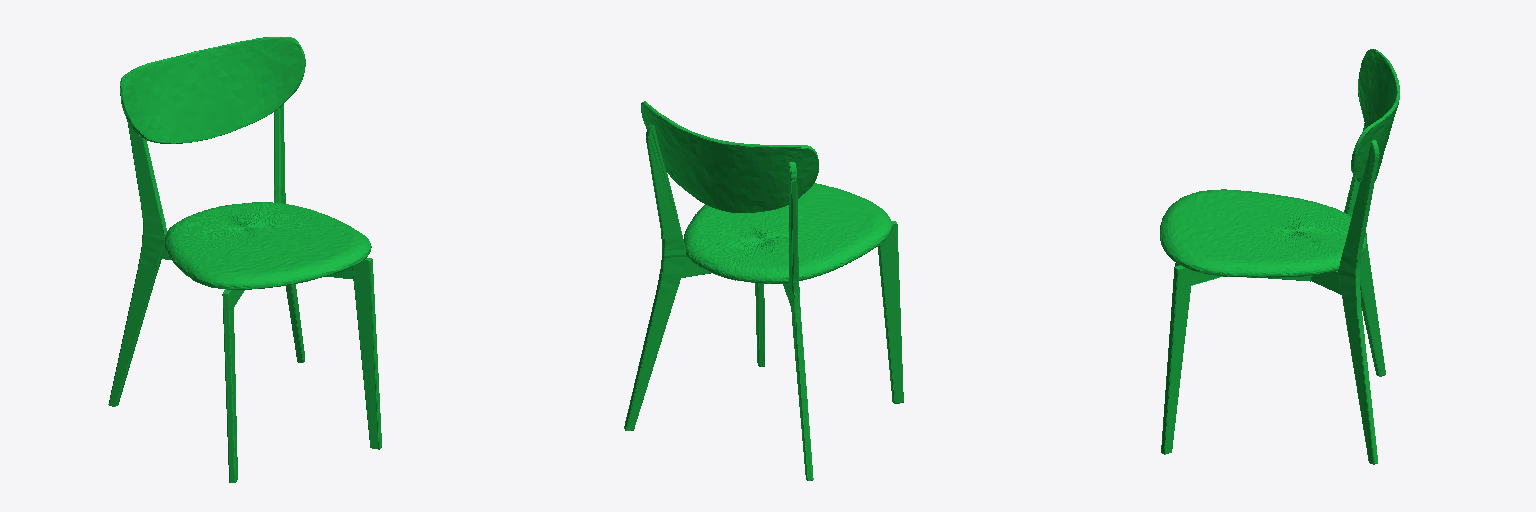
File: chair14.obj
3 renders of one model, left to right at view 1: azimuth 30°, elevation 25°; view 2: azimuth 150°, elevation 25°; view 3: azimuth 270°, elevation 25°, orthographic.
Parts seen in each view (by area): view 1: Object.1, Object.2; view 2: Object.1, Object.2; view 3: Object.2, Object.1.
Part boxes in pixels (x1,y1,x2,y2): Object.1: (108,37,381,482); Object.2: (165,202,371,289); Object.1: (624,101,903,480); Object.2: (684,183,891,283); Object.2: (1160,189,1366,277); Object.1: (1161,49,1399,464).
Size of the model in its own units: 43.31 by 71.76 by 46.76.